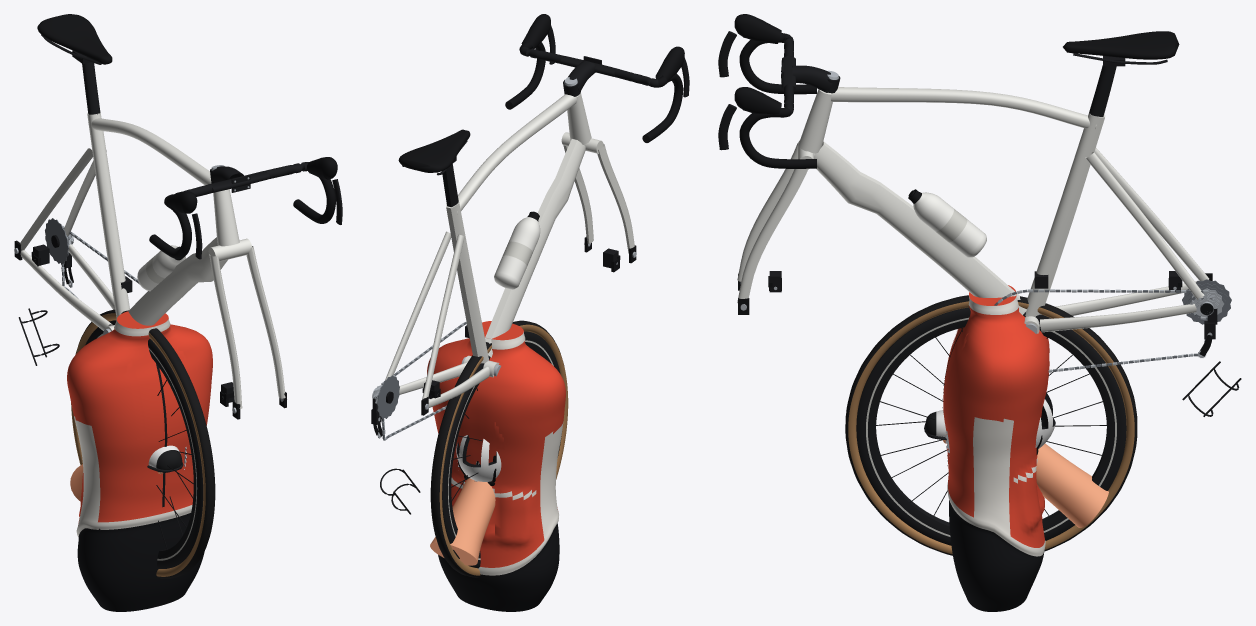
Rendered from rider.glb.
3 views of the same model, side by side, from view 1: azimuth 30°, elevation 25°; view 2: azimuth 150°, elevation 25°; view 3: azimuth 270°, elevation 25° (orthographic). The views are drawn at different scales.
Visible parts, largest first — view 1: torso, bike, wheel, shoe; view 2: bike, torso, wheel, head; view 3: bike, torso, wheel, head.
Boxes of the visible parts, x1=… form: torso: x1=67, y1=311, x2=212, y2=611; bike: x1=14, y1=14, x2=342, y2=419; wheel: x1=71, y1=309, x2=215, y2=578; shoe: x1=147, y1=445, x2=183, y2=472; bike: x1=371, y1=14, x2=689, y2=514; torso: x1=427, y1=321, x2=565, y2=611; wheel: x1=430, y1=320, x2=568, y2=577; head: x1=430, y1=435, x2=501, y2=565; bike: x1=718, y1=14, x2=1241, y2=416; torso: x1=942, y1=285, x2=1049, y2=611; wheel: x1=845, y1=295, x2=1137, y2=555; head: x1=943, y1=393, x2=1108, y2=527.
Size of the model in its own units: 0.44 by 1.41 by 1.21.
